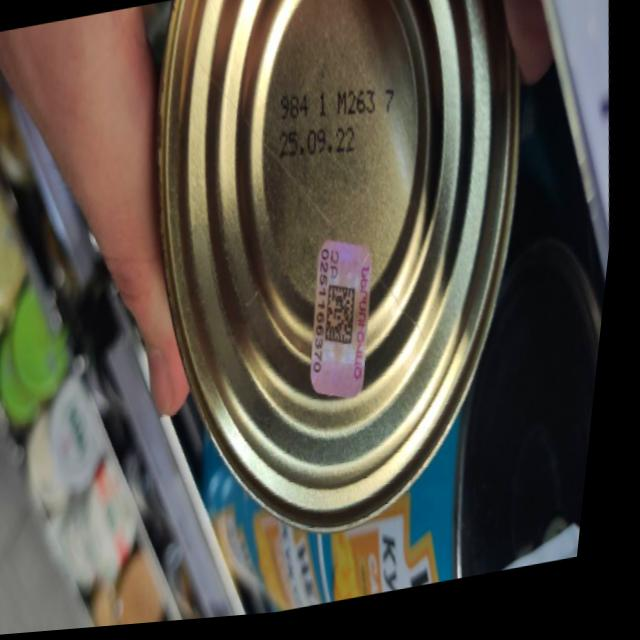datamatrix: (325, 284, 370, 358)
